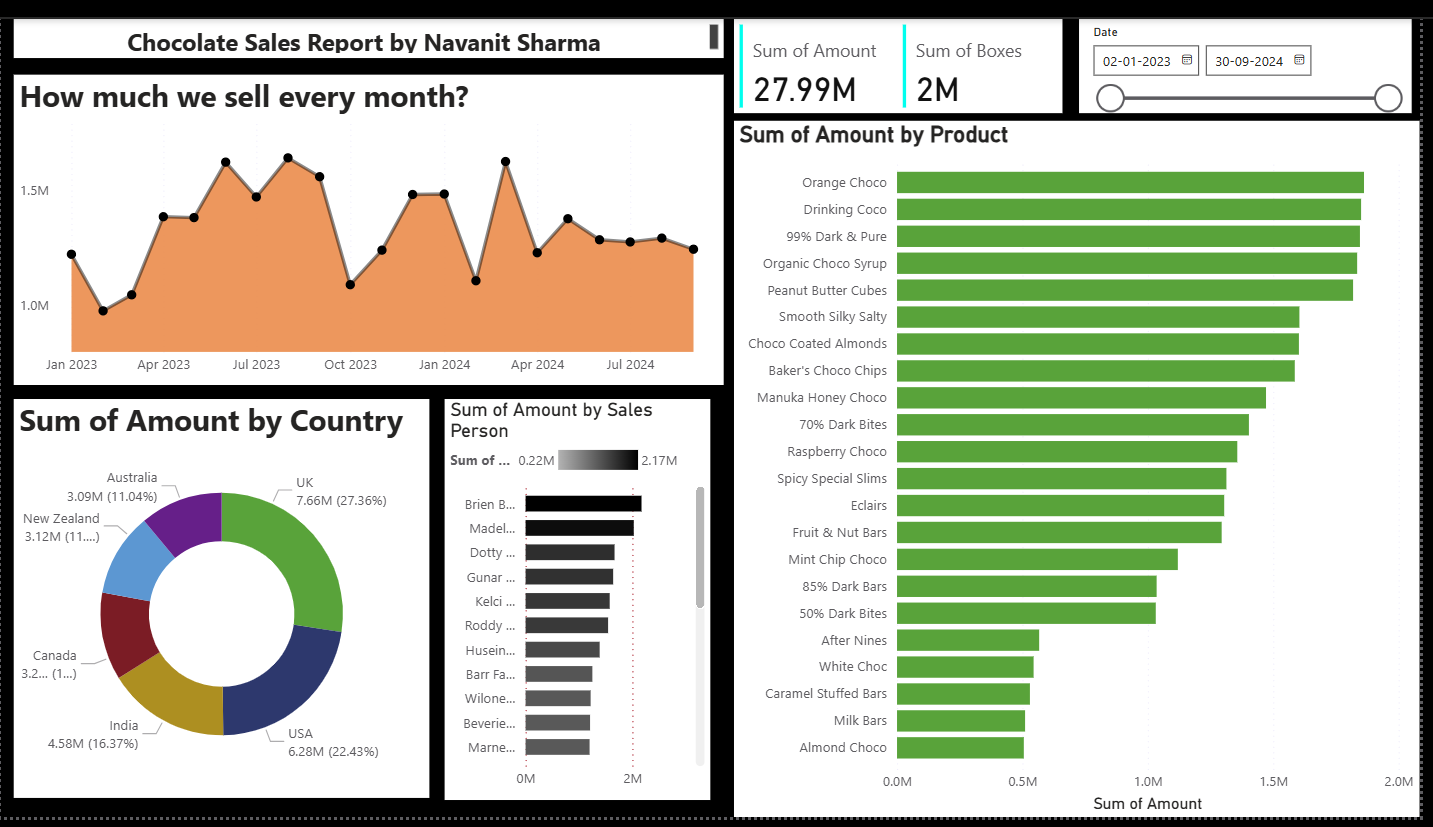

What the dashboard file says about the page in this screenshot:
{"tool":"powerbi","page":{"name":"Page 1","canvas":[1280,720],"ordinal":0},"visuals":[{"type":"lineChart","title":"How much we sell every month?","fields":{"Y":["data.Amount"],"Category":["data.Date.Variation.Date Hierarchy.Year","data.Date.Variation.Date Hierarchy.Quarter","data.Date.Variation.Date Hierarchy.Month"]},"box":[11.7,50,640,280],"z":0},{"type":"donutChart","fields":{"Category":["data.Country"],"Y":["data.Amount"]},"box":[11.7,343.3,375,360],"z":1000},{"type":"clusteredBarChart","fields":{"Y":["data.Amount"],"Category":["data.Sales Person"]},"box":[400,342.7,239.5,361.3],"z":2000},{"type":"barChart","fields":{"Category":["data.Product"],"Y":["data.Amount"]},"box":[661.7,91.7,618.3,628.3],"z":3000},{"type":"cardVisual","fields":{"Data":["data.Amount","data.Boxes"]},"box":[661.7,0,296,85],"z":4000},{"type":"textbox","box":[11.7,0,640,35],"z":5000},{"type":"slicer","fields":{"Values":["data.Date"]},"box":[971.7,0,300,85],"z":6000}]}

Visuals, with their boxes in screenshot pixels (x1, y1, x2, y2), scaled from the page's 1280x720 canvas onto the 1433x827 screenshot:
"How much we sell every month?" lineChart: 13/57/730/379
donutChart - data.Country x data.Amount: 13/394/433/808
clusteredBarChart - data.Amount x data.Sales Person: 448/394/716/809
barChart - data.Product x data.Amount: 741/105/1432/826
cardVisual - data.Amount x data.Boxes: 741/0/1072/98
textbox: 13/0/730/40
slicer - data.Date: 1088/0/1424/98
